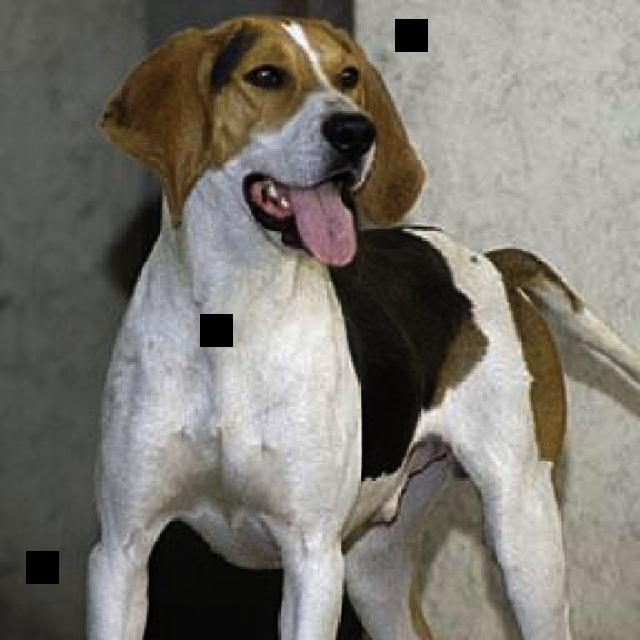adult_dog: (73, 13, 640, 640)
